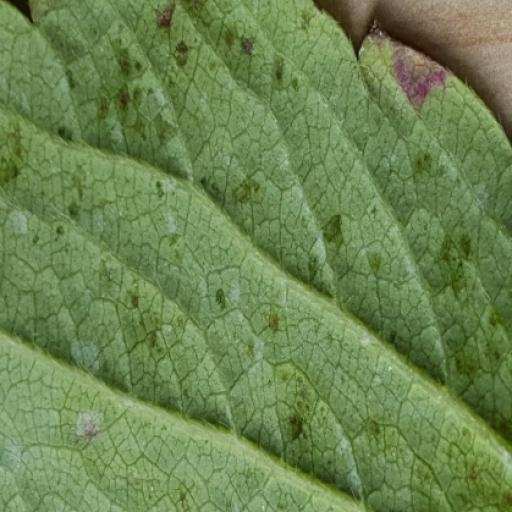Angular Leafspot: (0, 0, 511, 511)
